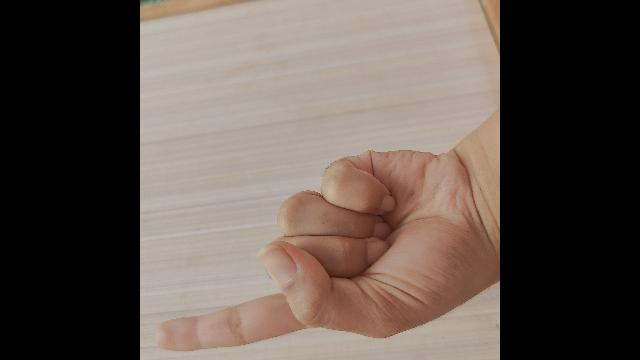soochi: (156, 107, 500, 350)
